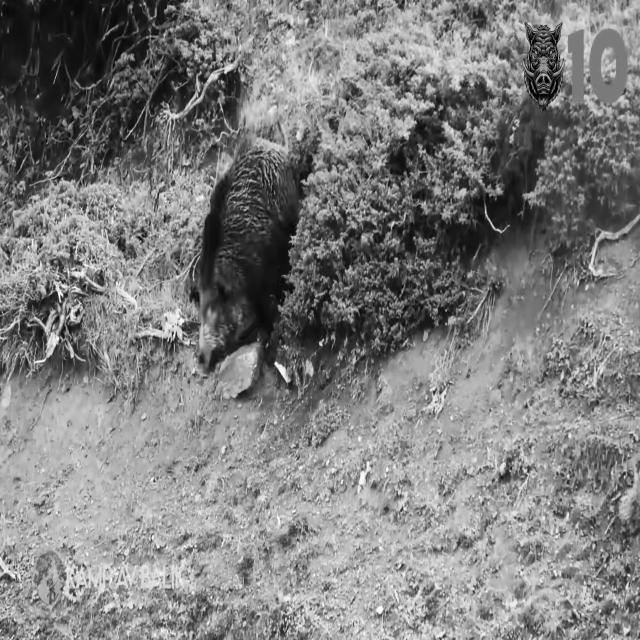boar: (200, 134, 298, 369)
